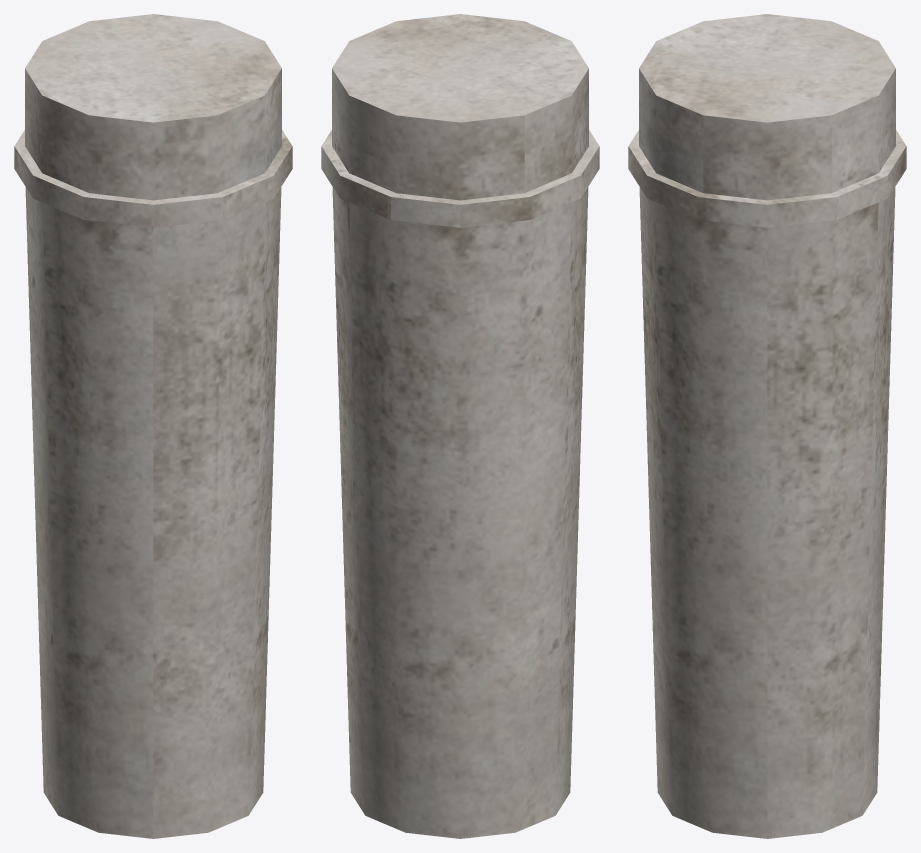
Rendered from grave1.fbx.
3 renders of one model, left to right at view 1: azimuth 30°, elevation 25°; view 2: azimuth 150°, elevation 25°; view 3: azimuth 270°, elevation 25°, orthographic.
Visible parts, largest first — view 1: Model; view 2: Model; view 3: Model.
Boxes of the visible parts, left/top/right/bottom form: Model: left=14, top=14, right=292, bottom=838; Model: left=321, top=14, right=599, bottom=838; Model: left=628, top=14, right=906, bottom=838.
Size of the model in its own units: 527 by 1513 by 527.
